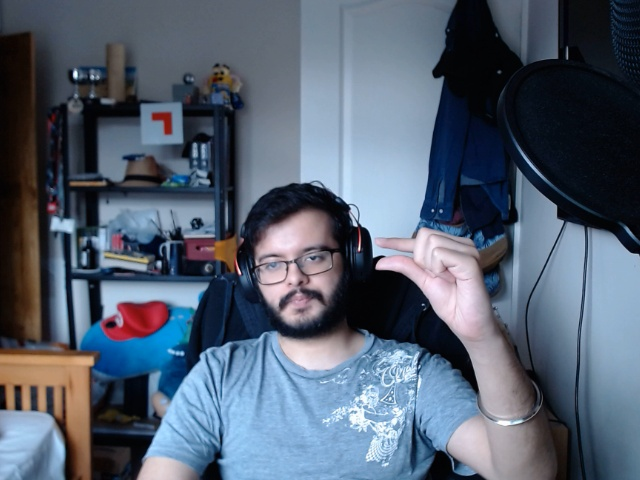Small: (370, 211, 495, 338)
